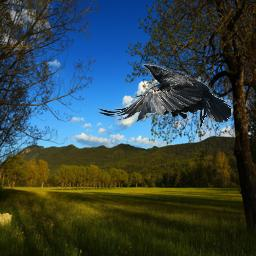Crow: (95, 63, 231, 130)
